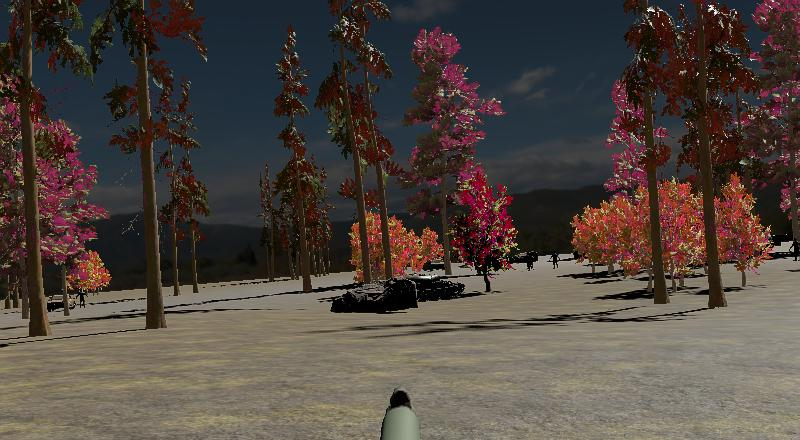Tank: (400, 269, 480, 303)
